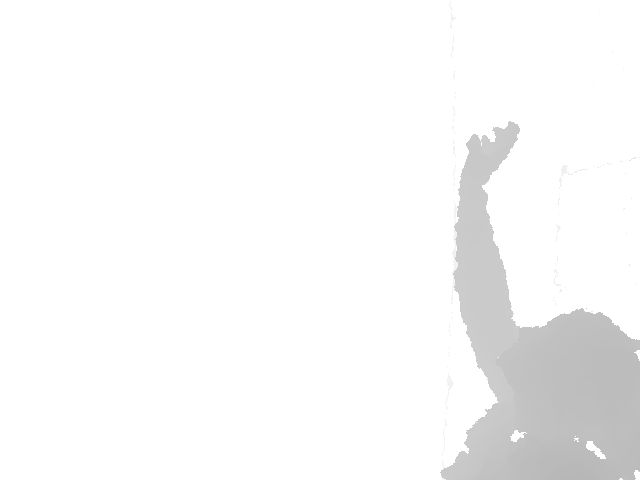hand: (457, 118, 521, 183)
head: (495, 307, 640, 417)
person: (438, 118, 640, 480)
